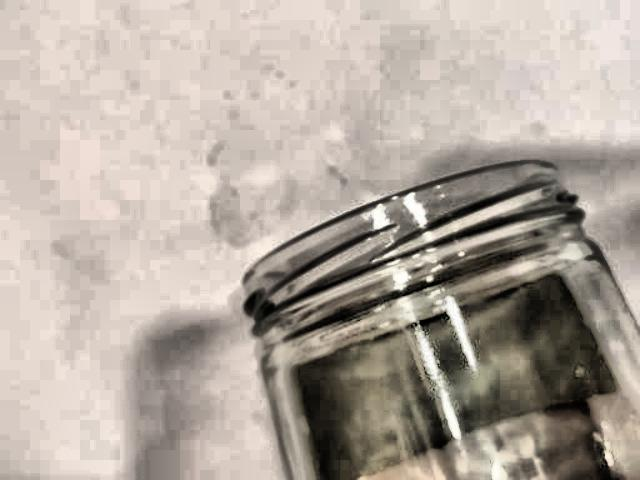Bottles: (219, 142, 640, 480)
